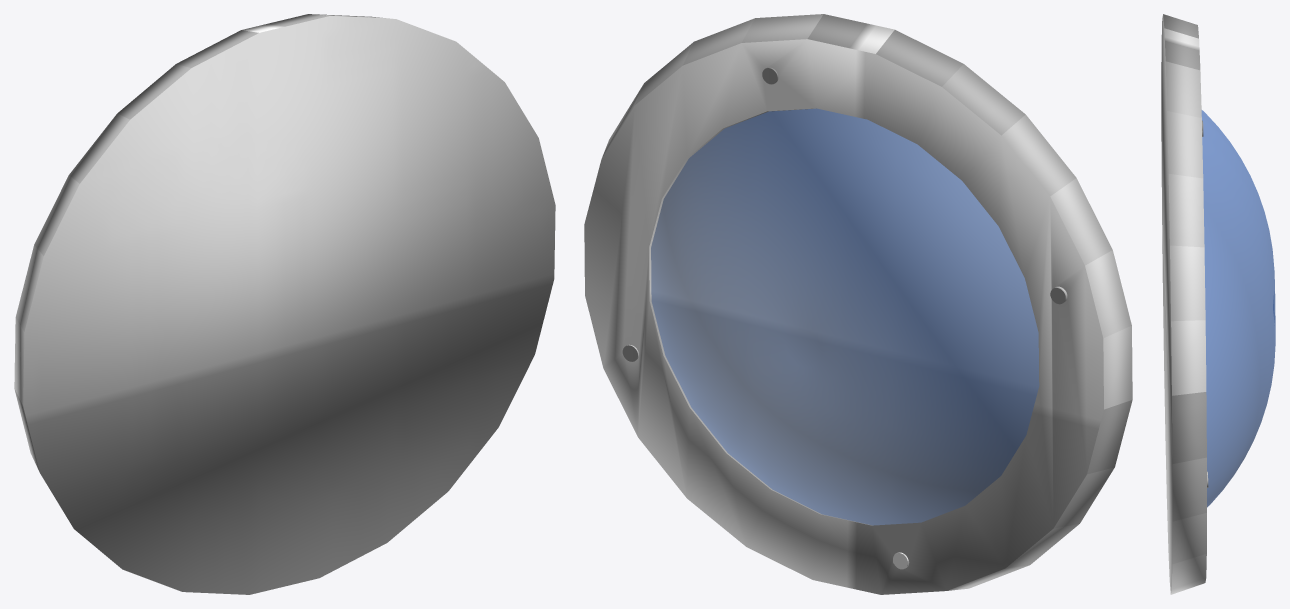
File: light.glb
The picture shows the model from 3 angles, left to right: view 1: azimuth 30°, elevation 25°; view 2: azimuth 150°, elevation 25°; view 3: azimuth 270°, elevation 25°; orthographic projection. The views are drawn at different scales.
Visible parts, largest first — view 1: model 2; view 2: model 2, model 3, model; view 3: model 2, model 3.
Boxes of the visible parts, box(x1,y1,x2,y2) form: model 2: box(14, 14, 555, 594); model 2: box(584, 14, 1132, 594); model 3: box(651, 108, 1039, 525); model: box(622, 67, 1067, 569); model 2: box(1161, 14, 1206, 594); model 3: box(1201, 110, 1275, 507).
Bounding box in the file's own units: 0.3495 × 0.3496 × 0.0691.
Materials: 3 (2 with a texture image).
